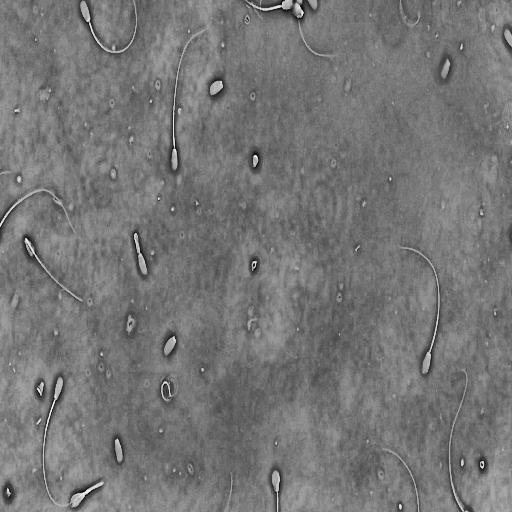coiled-tail: (84, 481, 104, 495), (161, 381, 172, 401), (134, 233, 140, 255)
dirt-particles: (124, 312, 138, 336), (35, 377, 46, 400), (2, 481, 13, 502), (249, 255, 260, 274), (248, 152, 260, 169), (477, 456, 487, 475)
folded-tail: (25, 237, 82, 301)
loose-head: (161, 330, 179, 360), (437, 53, 453, 82), (207, 76, 225, 100), (113, 433, 125, 468), (290, 0, 306, 22)
loose-tail: (0, 184, 81, 241), (446, 366, 470, 512), (379, 444, 422, 512), (159, 377, 173, 404)
normal: (168, 10, 213, 174), (396, 242, 443, 378), (21, 233, 86, 310), (41, 371, 73, 509), (77, 0, 139, 57), (67, 479, 105, 509), (131, 227, 150, 282), (243, 0, 297, 15)
